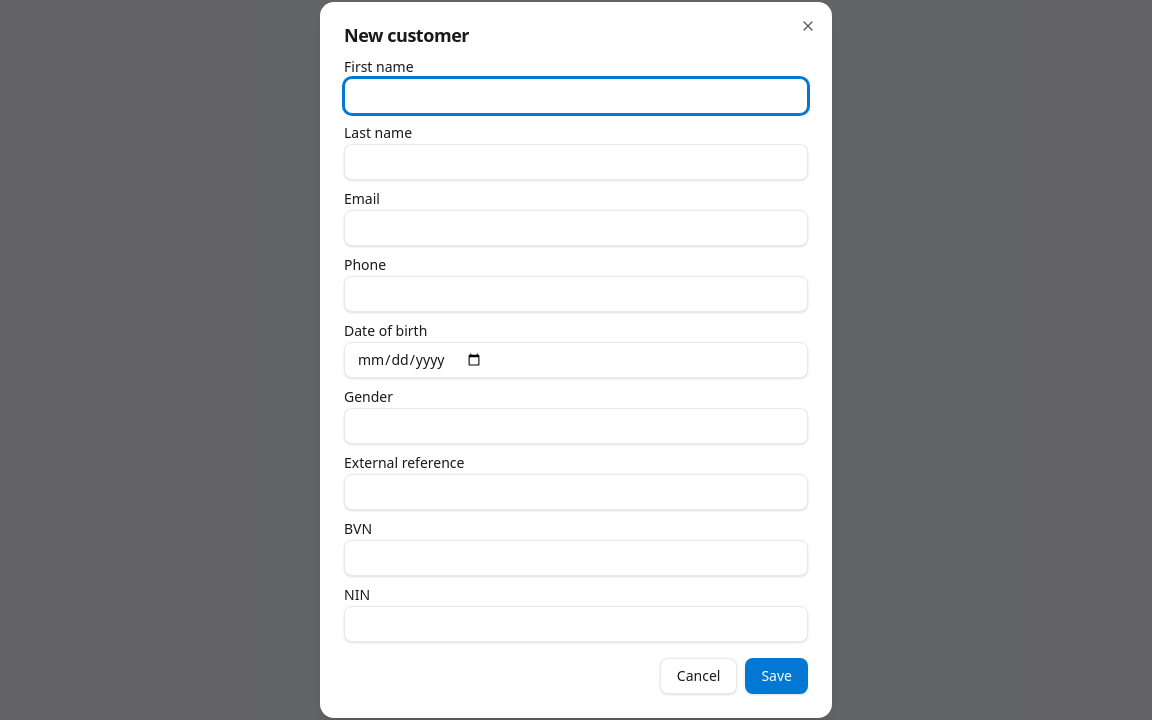
Test: CustomerFormModal › shows email validation error for malformed email
Type "John" into the field labelled "First name". click: (576, 96)
box: top-left (344, 78), bottom-right (808, 114)
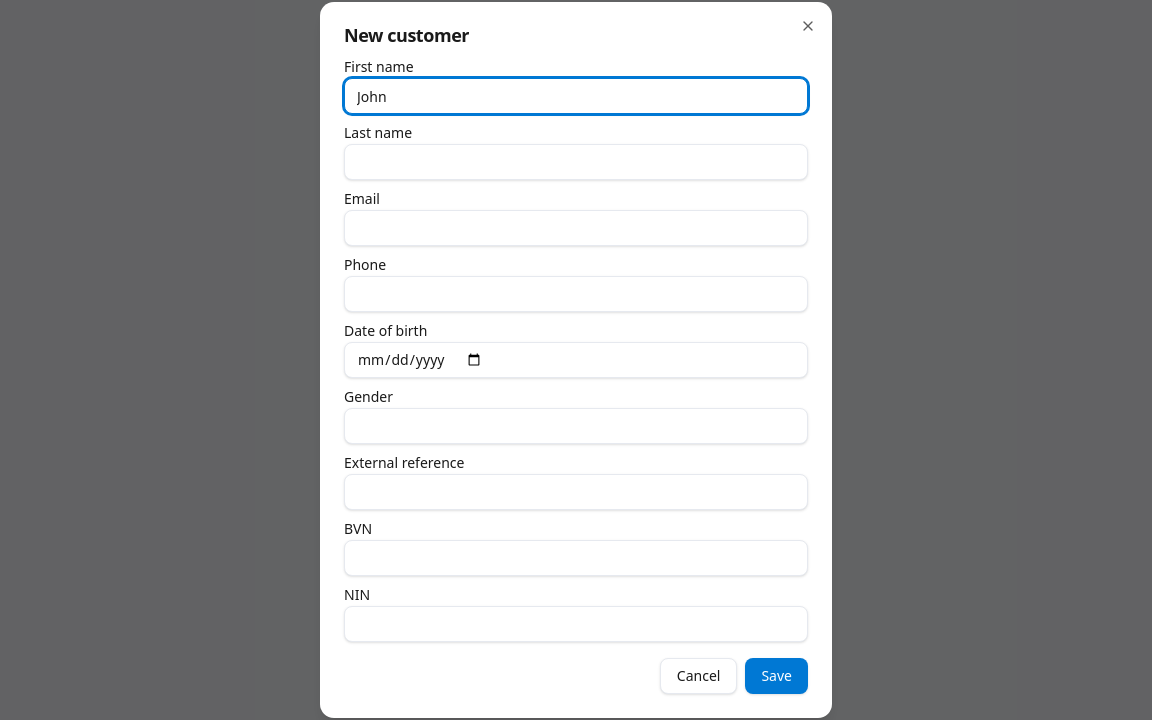
Type "Doe" into the field labelled "Last name". click: (576, 162)
box: top-left (344, 144), bottom-right (808, 180)
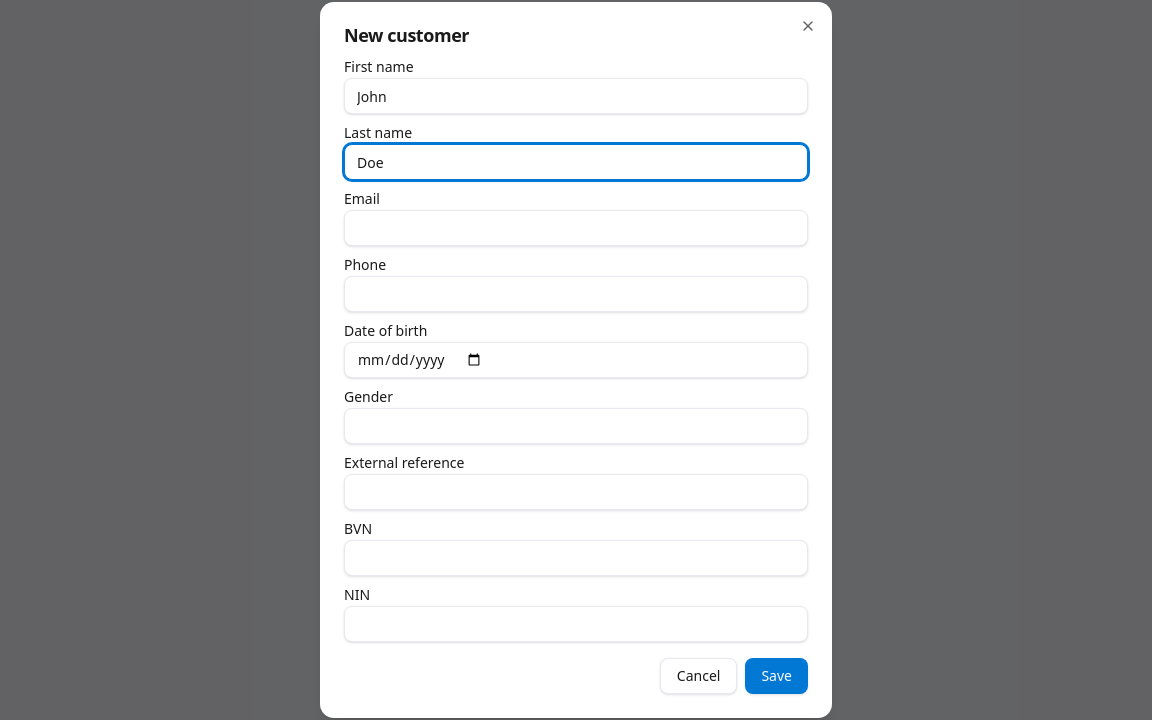
Type "notanemail" into the field labelled "Email". click: (576, 228)
box: top-left (344, 210), bottom-right (808, 246)
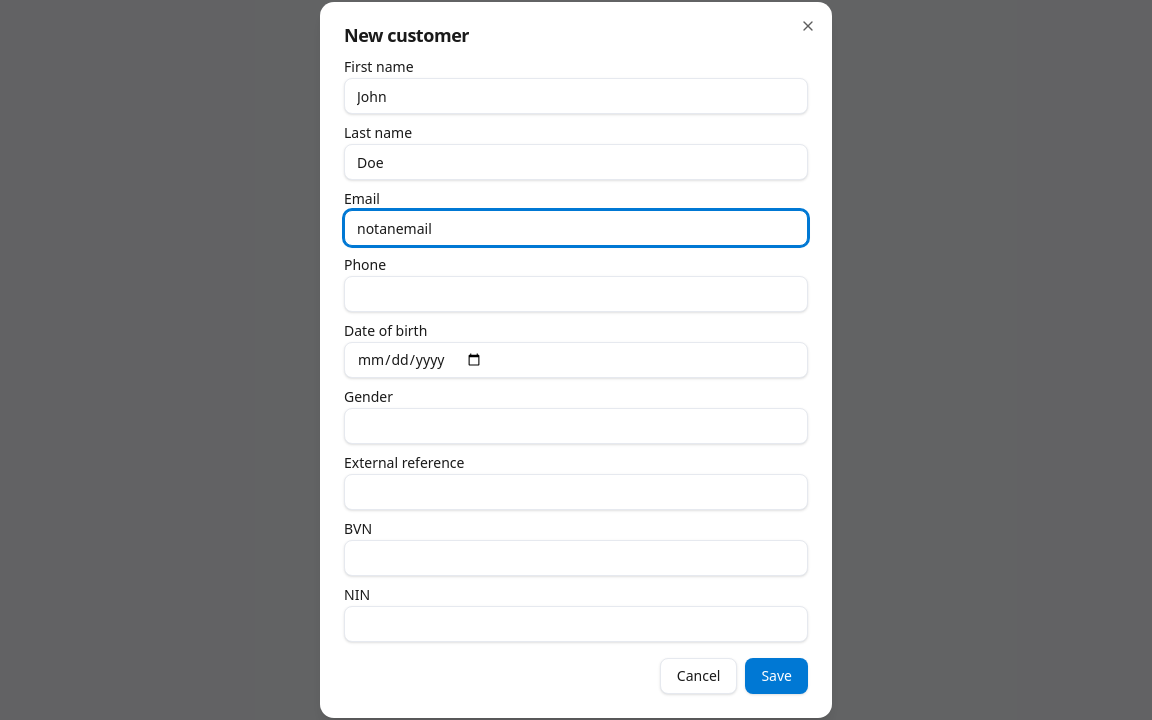
Click the button "Save". click: (777, 676)
box: top-left (745, 658), bottom-right (808, 694)
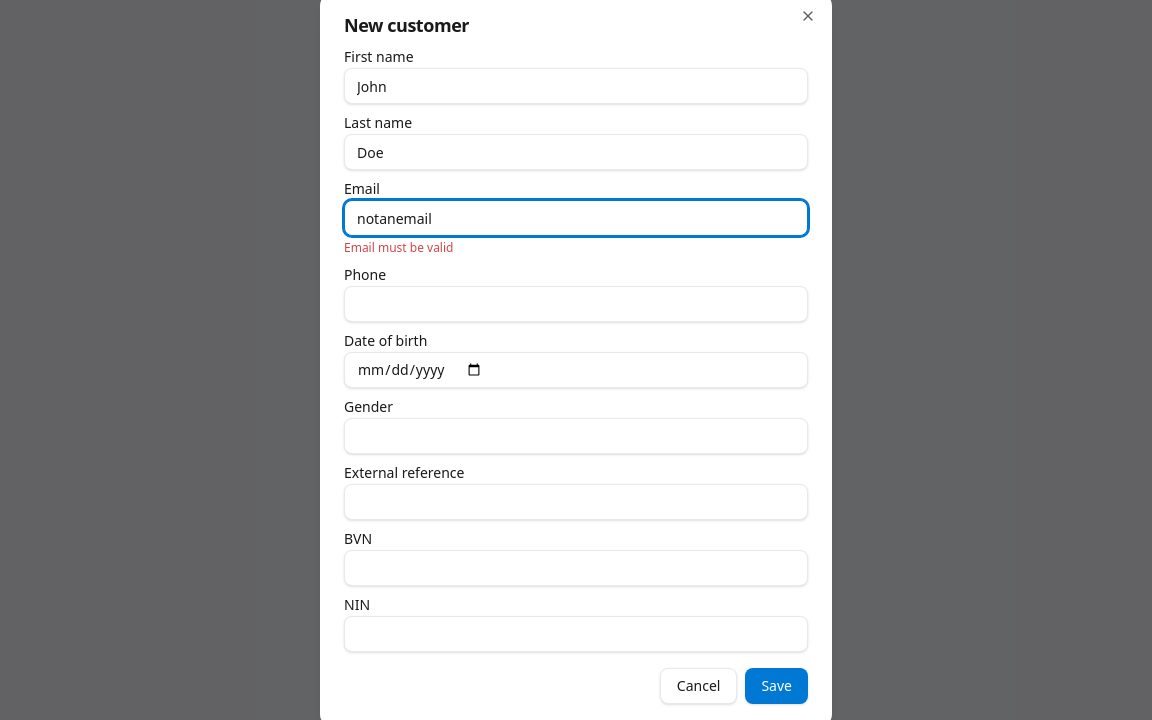
expect the text "Email must be valid" is shown: met, box top-left (344, 239), bottom-right (454, 256)
